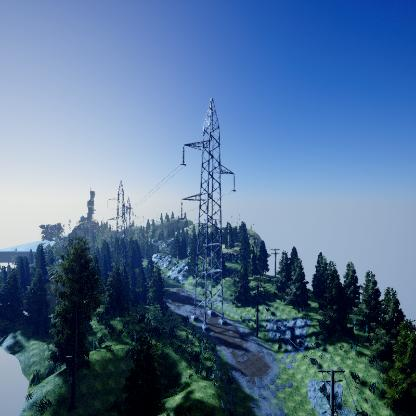tower: (179, 95, 240, 331)
